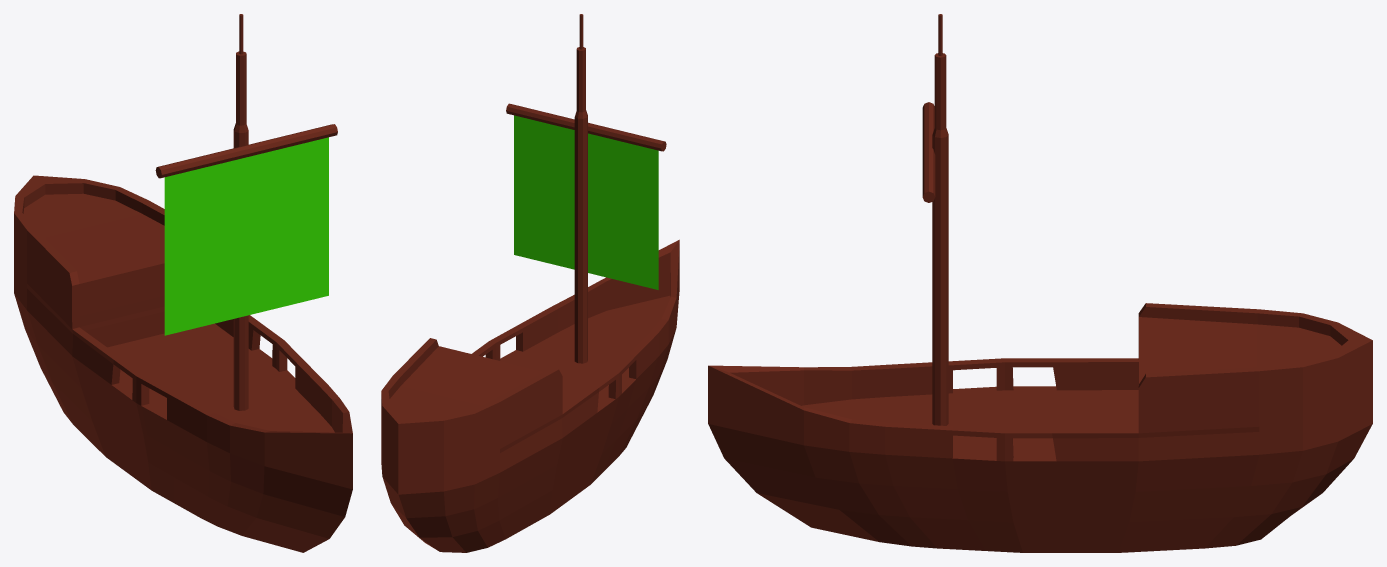
File: main-ship-model.gltf
3 views of the same model, side by side, from view 1: azimuth 30°, elevation 25°; view 2: azimuth 150°, elevation 25°; view 3: azimuth 270°, elevation 25° (orthographic). The views are drawn at different scales.
Parts seen in each view (by area): view 1: Cube, Plane, Mast main, Sail Pole; view 2: Cube, Plane, Mast main, Sail Pole; view 3: Cube, Mast main, Sail Pole.
Boxes of the visible parts, <box> form: Cube: <box>14,175,352,552</box>; Plane: <box>164,137,328,335</box>; Mast main: <box>233,14,248,410</box>; Sail Pole: <box>155,124,337,178</box>; Cube: <box>381,239,679,552</box>; Plane: <box>514,115,658,289</box>; Mast main: <box>574,14,587,363</box>; Sail Pole: <box>506,103,666,151</box>; Cube: <box>708,303,1372,552</box>; Mast main: <box>932,14,948,425</box>; Sail Pole: <box>922,102,935,202</box>.
Size of the model in its own units: 6.51 by 17.4 by 20.45.
